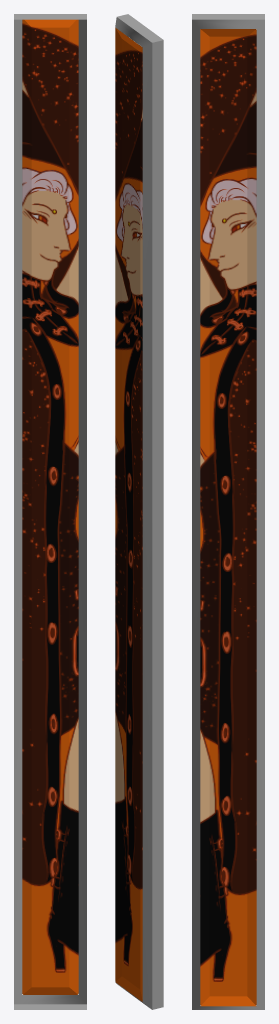
File: neok_wall_sign_1x15_01_LOD0.fbx
3 views of the same model, side by side, from view 1: azimuth 90°, elevation 25°; view 2: azimuth 210°, elevation 25°; view 3: azimuth 270°, elevation 25° (orthographic). The views are drawn at different scales.
Parts seen in each view (by area): view 1: billboard02; view 2: billboard02; view 3: billboard02.
Boxes of the visible parts, left/top/right/bottom form: billboard02: left=14, top=14, right=86, bottom=1009; billboard02: left=115, top=14, right=163, bottom=1009; billboard02: left=192, top=14, right=264, bottom=1009.
Bounding box in the file's own units: 0.8284 × 45 × 3.
